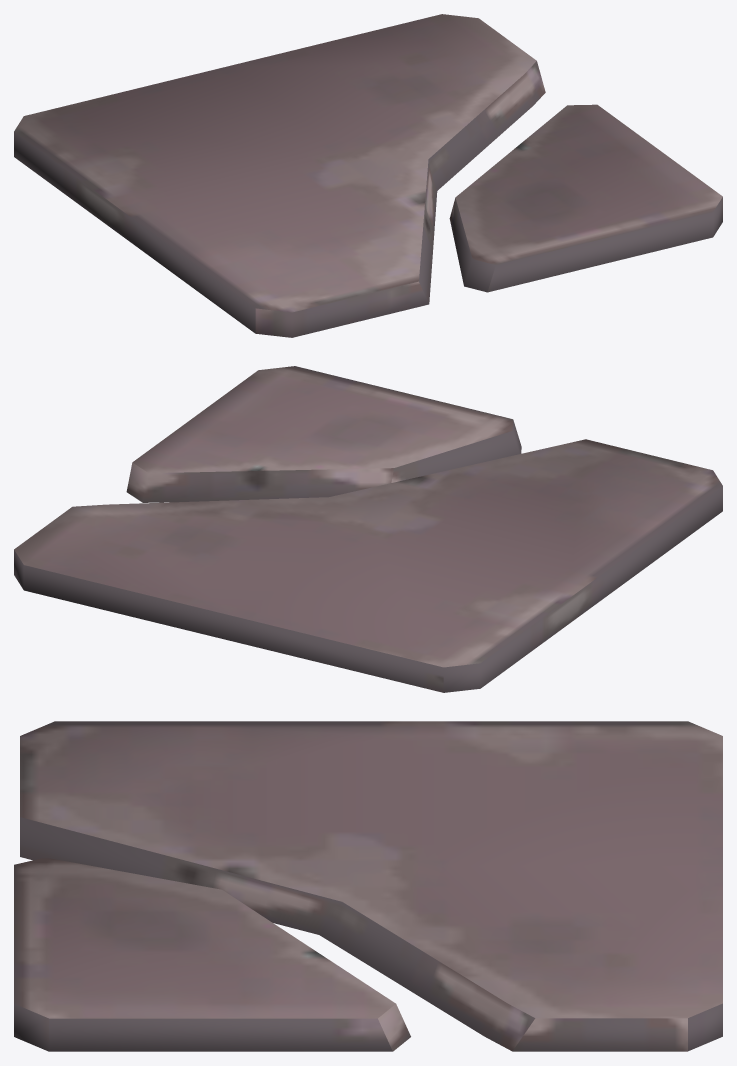
Rendered from DecoFloorTile7_5.fbx.
The picture shows the model from 3 angles, top to bottom: view 1: azimuth 30°, elevation 25°; view 2: azimuth 150°, elevation 25°; view 3: azimuth 270°, elevation 25°; orthographic projection. The views are drawn at different scales.
Parts seen in each view (by area): view 1: Stoneplate01, Stoneplate02; view 2: Stoneplate01, Stoneplate02; view 3: Stoneplate01, Stoneplate02.
Part boxes in pixels (x1,y1,x2,y2): Stoneplate01: (14,14,545,337); Stoneplate02: (449,104,722,292); Stoneplate01: (14,439,722,692); Stoneplate02: (126,366,521,502); Stoneplate01: (20,721,722,1051); Stoneplate02: (14,857,410,1051).
Size of the model in its own units: 1.13 by 0.0588 by 1.14.
1 material, 1 textured.
